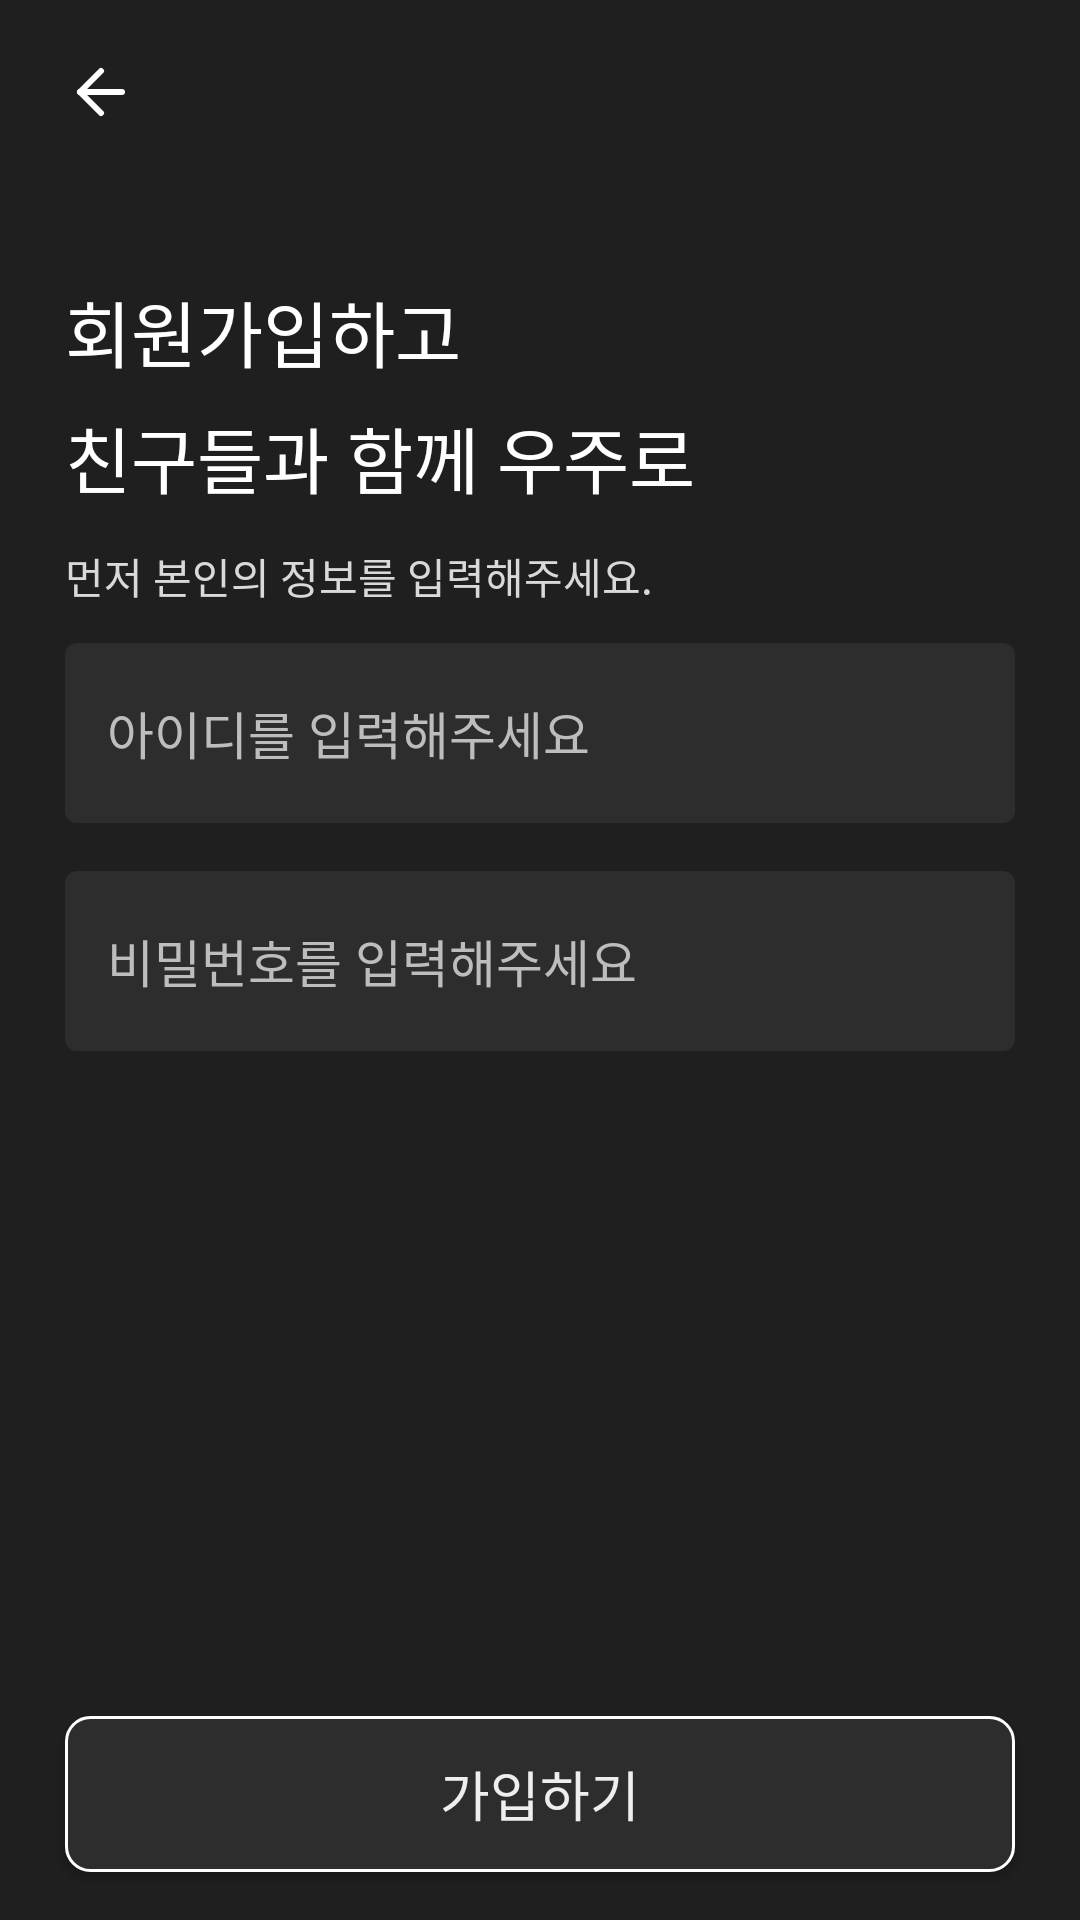

Named icons in this screenshot (1080x1920) and their centers, [x,y]:
back: [101,92]
